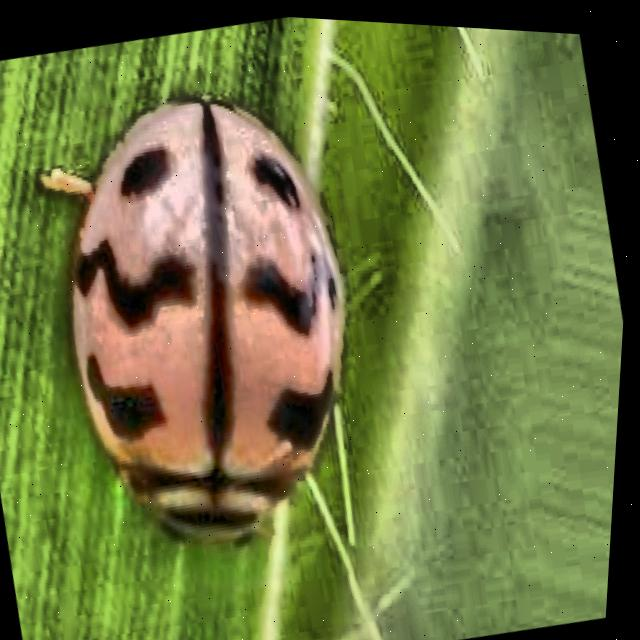Asian-Lady-beetle: (0, 0, 443, 640)
